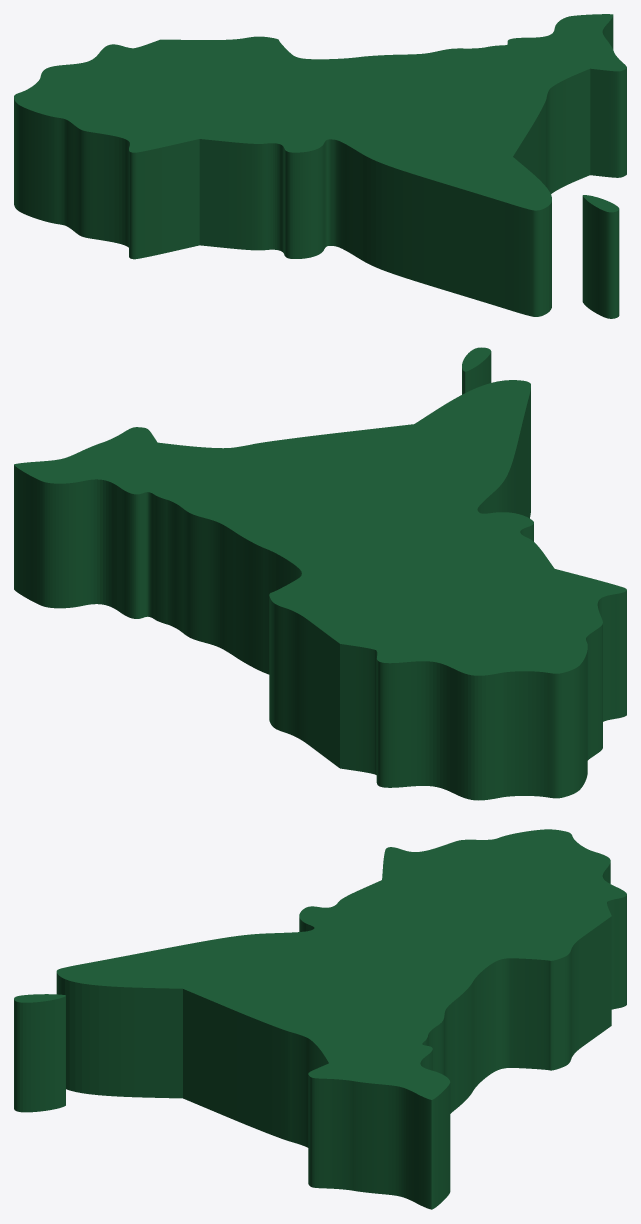
3 renders of one model, top to bottom at view 1: azimuth 30°, elevation 25°; view 2: azimuth 150°, elevation 25°; view 3: azimuth 270°, elevation 25°, orthographic. The views are drawn at different scales.
Visible parts, largest first — view 1: Curve.045_path4272; view 2: Curve.045_path4272; view 3: Curve.045_path4272.
Part boxes in pixels (x1=…): Curve.045_path4272: x1=14, y1=14, x2=626, y2=318; Curve.045_path4272: x1=14, y1=347, x2=626, y2=800; Curve.045_path4272: x1=14, y1=829, x2=626, y2=1209.
Size of the model in its own units: 0.529 by 0.1 by 0.5065.
